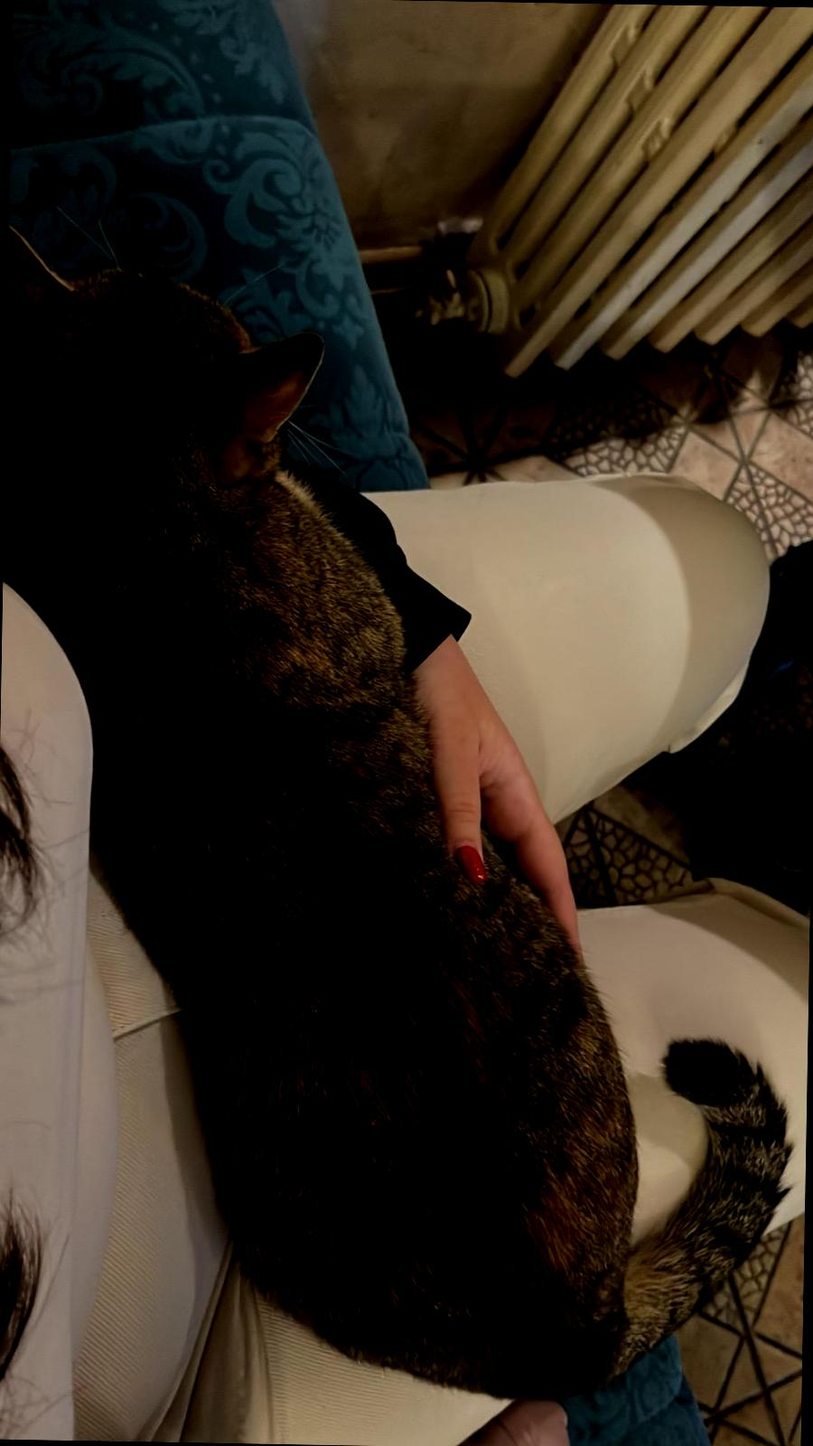macka: (0, 225, 803, 1408)
